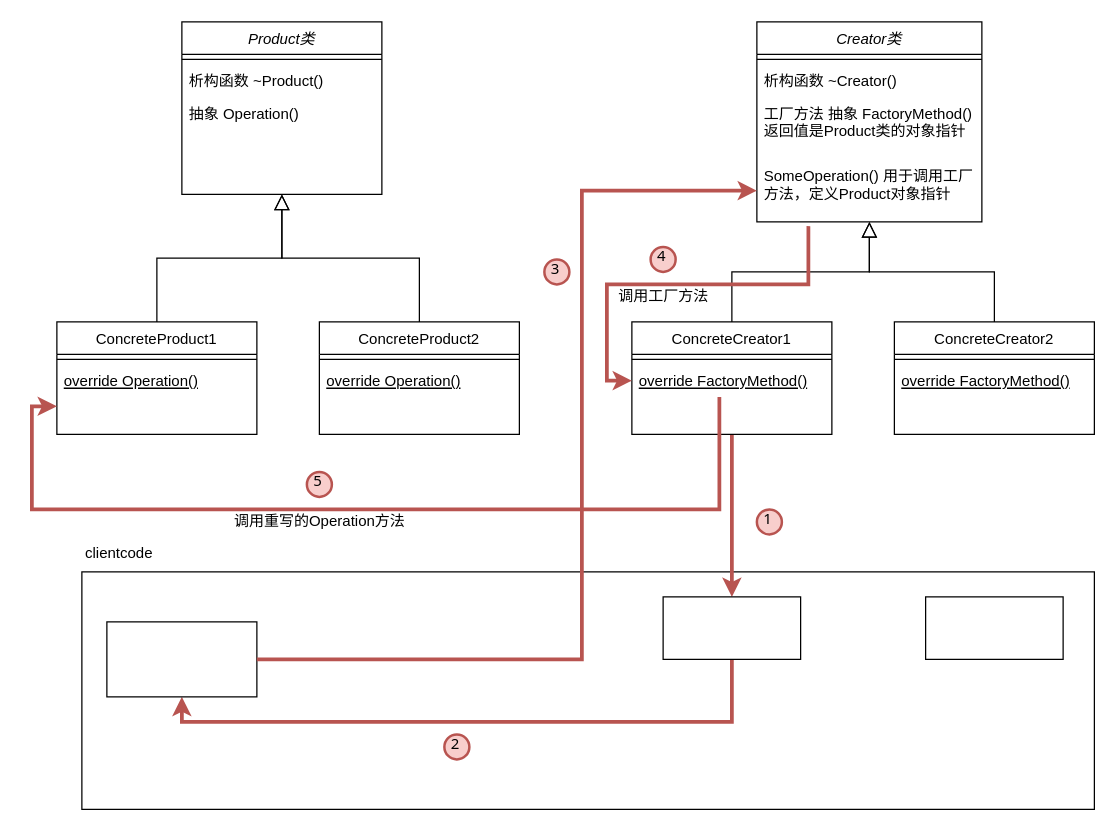
This 1116x831 diagram has some shape labels left out. The centre of each missing label's shape, as x and y in pixels:
通过传入的派生类对象creator调用SomeOperation(): the point at 181,659
通过基类Creator 创建派生类对象 creator1: the point at 731,627
通过基类Creator 创建派生类对象 creator2: the point at 993,627
